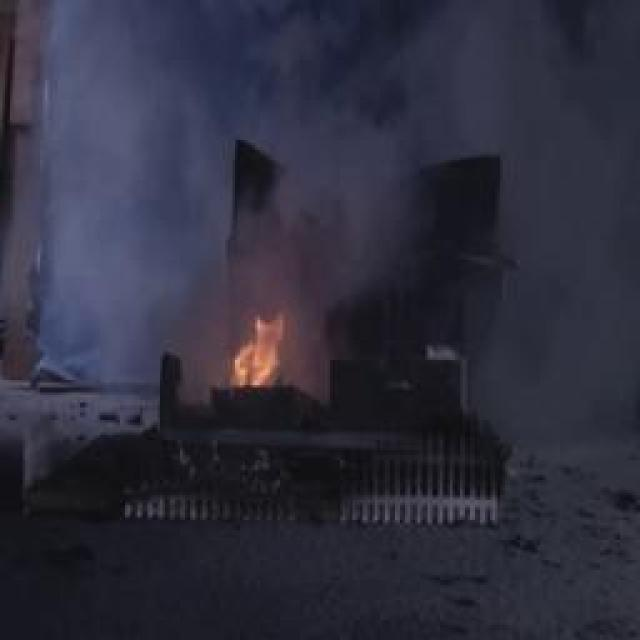fire: (212, 295, 322, 423)
smoke: (44, 4, 616, 291)
